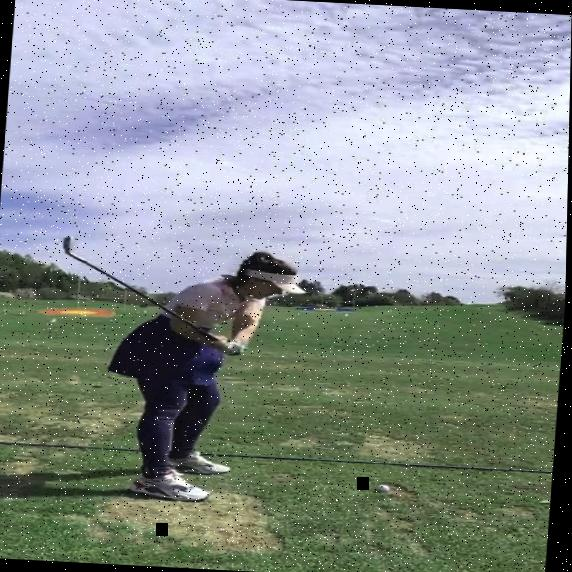ClubHead: (61, 234, 82, 254)
GolfBall: (380, 484, 392, 492)
